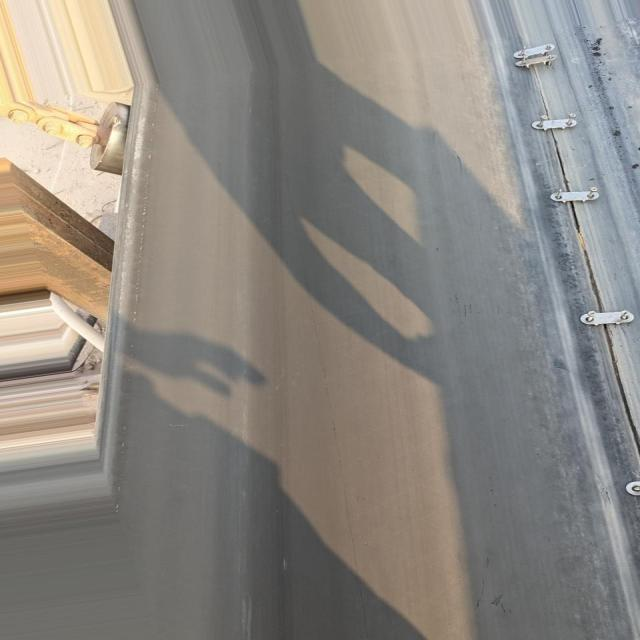patch work: (495, 22, 640, 518)
